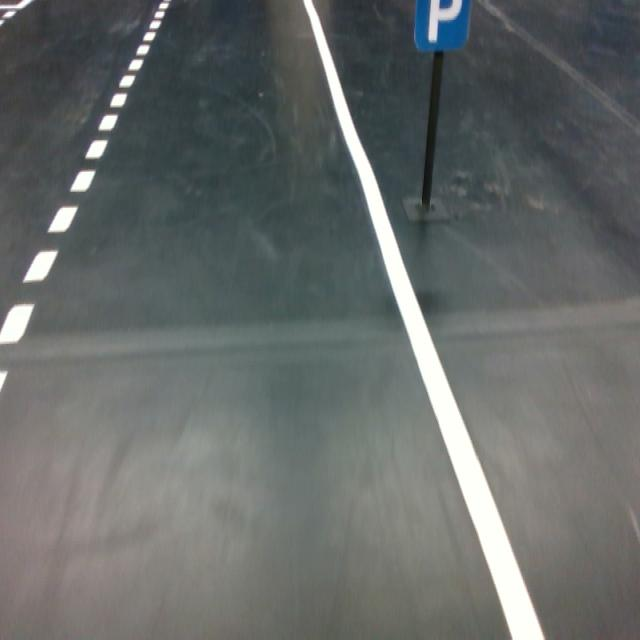parking-sign: (412, 0, 472, 53)
